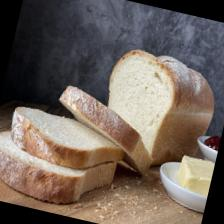bread: (92, 43, 224, 178), (0, 126, 120, 216), (4, 103, 132, 181)
